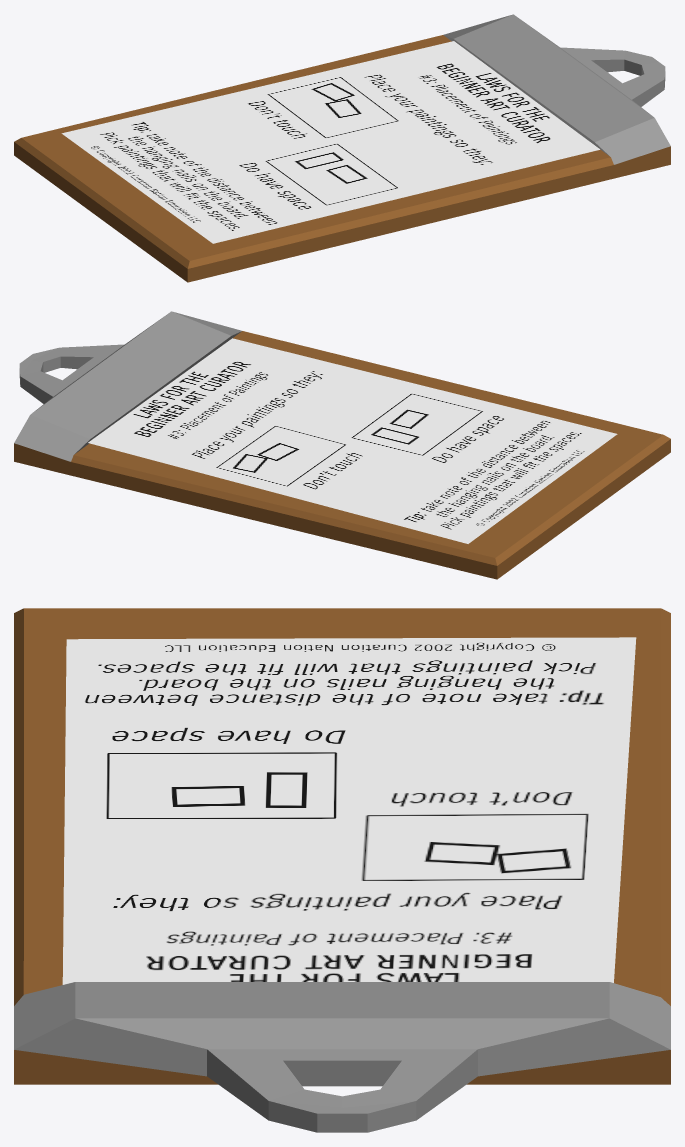
File: ClipBoard_Page_2.fbx
The picture shows the model from 3 angles, top to bottom: view 1: azimuth 30°, elevation 25°; view 2: azimuth 150°, elevation 25°; view 3: azimuth 270°, elevation 25°; orthographic projection. The views are drawn at different scales.
Parts seen in each view (by area): view 1: Cube.016; view 2: Cube.016; view 3: Cube.016.
Boxes of the visible parts, x1=… form: Cube.016: x1=14, y1=14, x2=670, y2=282; Cube.016: x1=14, y1=311, x2=670, y2=579; Cube.016: x1=14, y1=608, x2=670, y2=1132.
Bounding box in the file's own units: 50.37 × 3.03 × 27.17.
